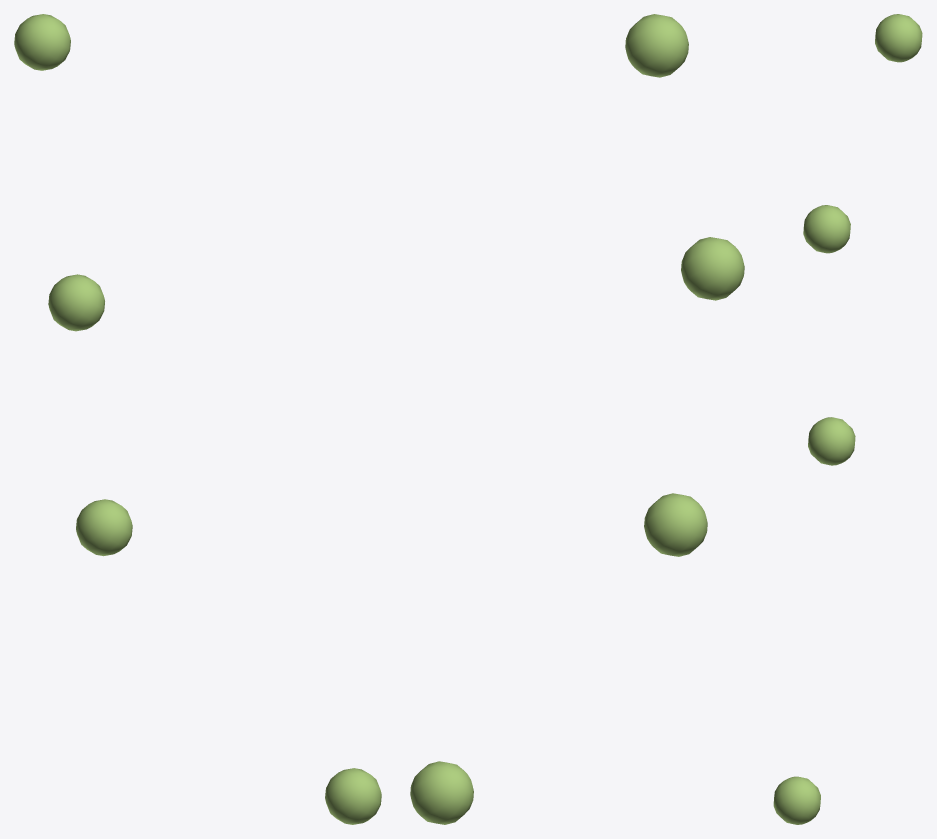
File: lateral-pericardial-nodes.glb
3 renders of one model, left to right at view 1: azimuth 30°, elevation 25°; view 2: azimuth 150°, elevation 25°; view 3: azimuth 270°, elevation 25°, orthographic. The views are drawn at different scales.
Visible parts, largest first — view 1: Lateral pericardial nodes; view 2: Lateral pericardial nodes; view 3: Lateral pericardial nodes.
Part boxes in pixels (bbox=[...]): Lateral pericardial nodes: bbox=[14, 14, 381, 824]; Lateral pericardial nodes: bbox=[410, 14, 744, 824]; Lateral pericardial nodes: bbox=[773, 14, 922, 824].
Size of the model in its own units: 0.0161 by 0.0411 by 0.00791.
